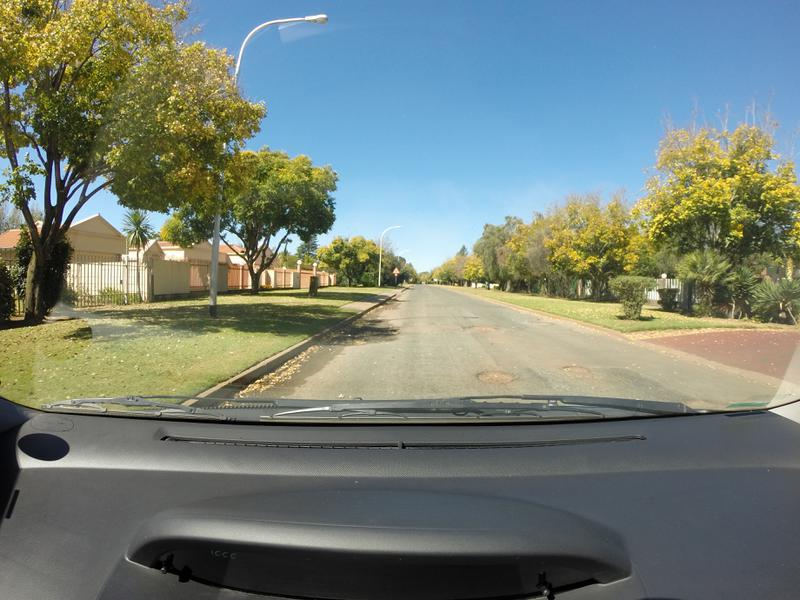pothole: (469, 366, 516, 389), (560, 358, 596, 382), (464, 325, 510, 337)
